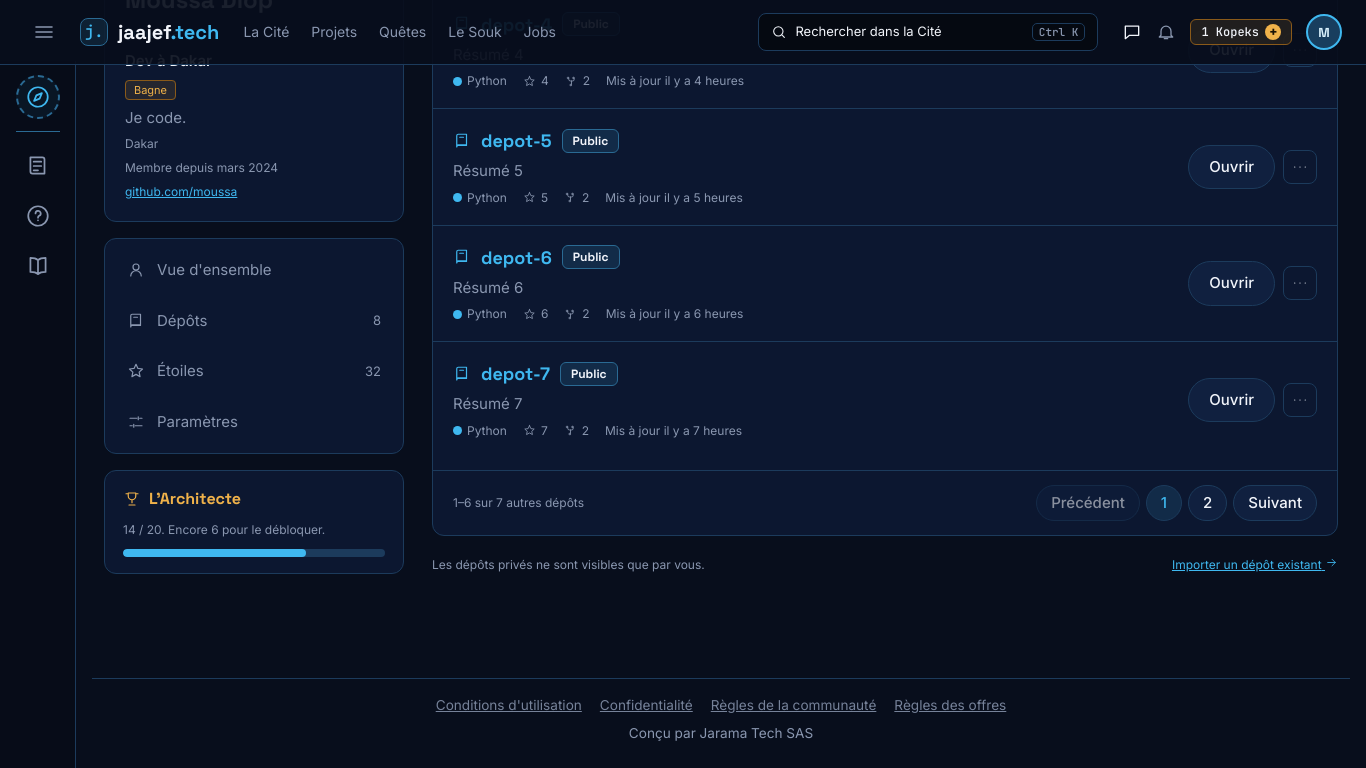
Test: My repositories › goes to the next page
The width and height of the screenshot is (1366, 768).
(page scrolled)
Click the button "Suivant": [1275, 503] box x1=1233 y1=484 x2=1317 y2=521
(page scrolled)
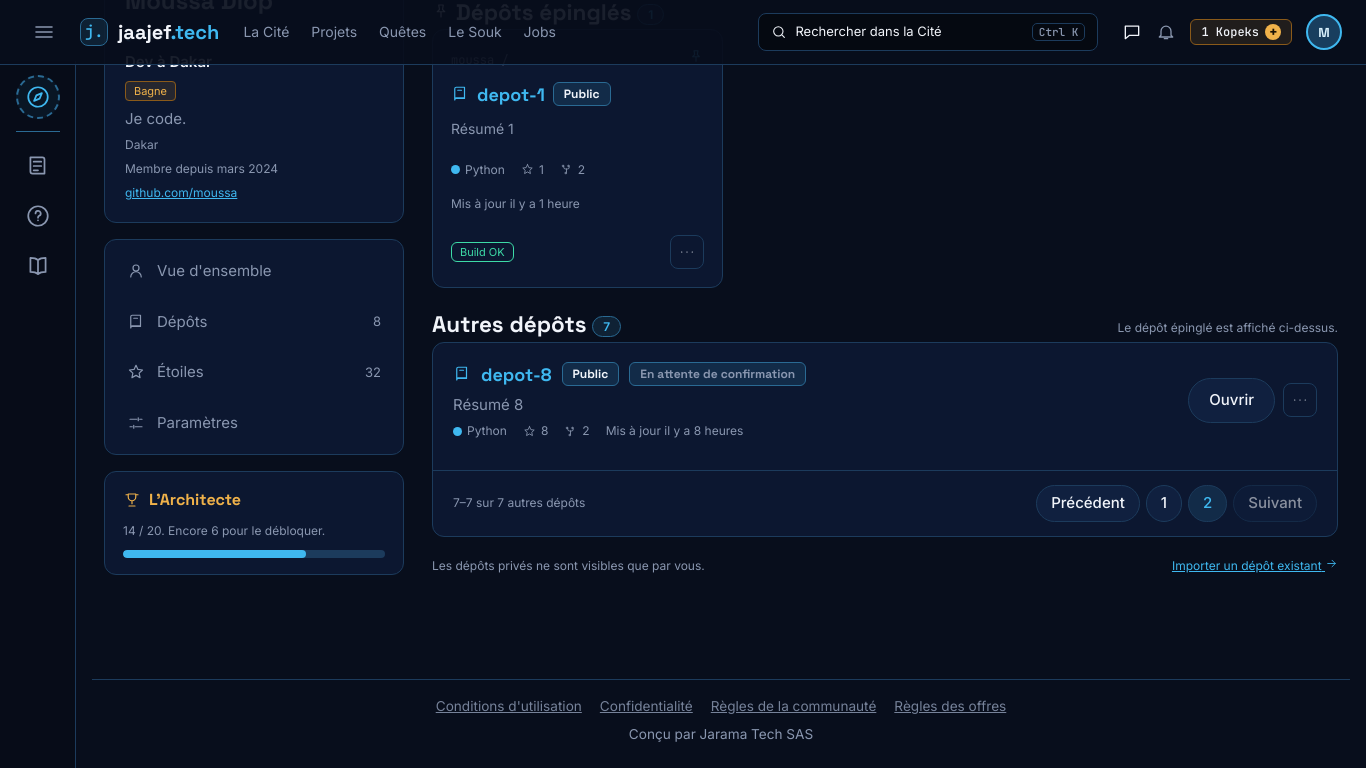
Result: the text "7–7 sur 7 autres dépôts" is shown at x1=453 y1=494 x2=585 y2=512
